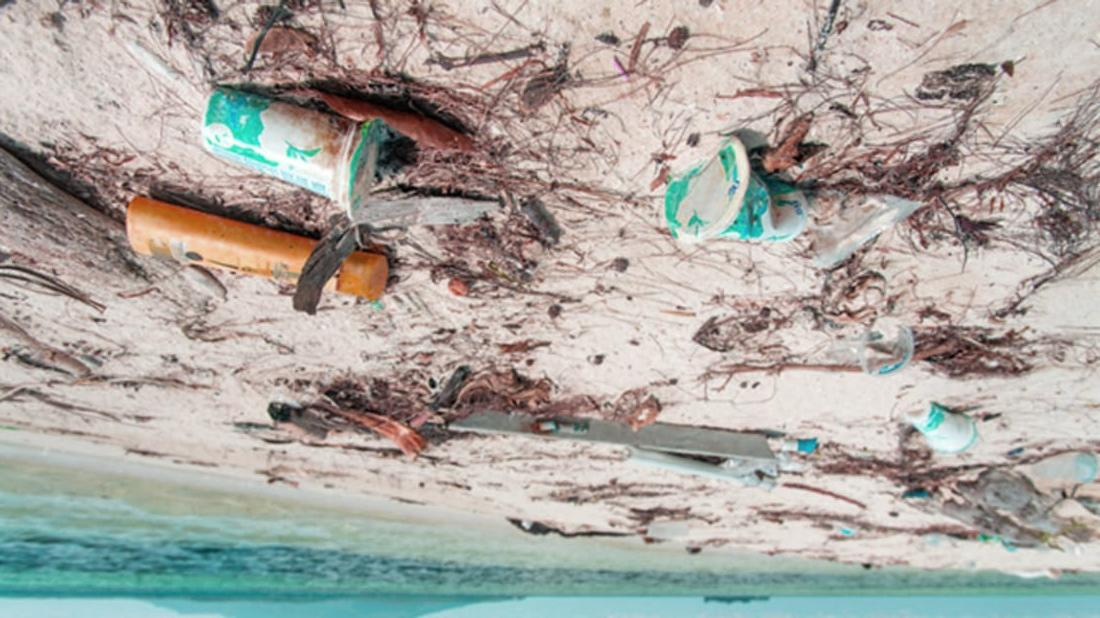Plastic: (121, 193, 385, 312), (200, 77, 392, 225), (659, 139, 817, 253), (908, 400, 975, 455)
